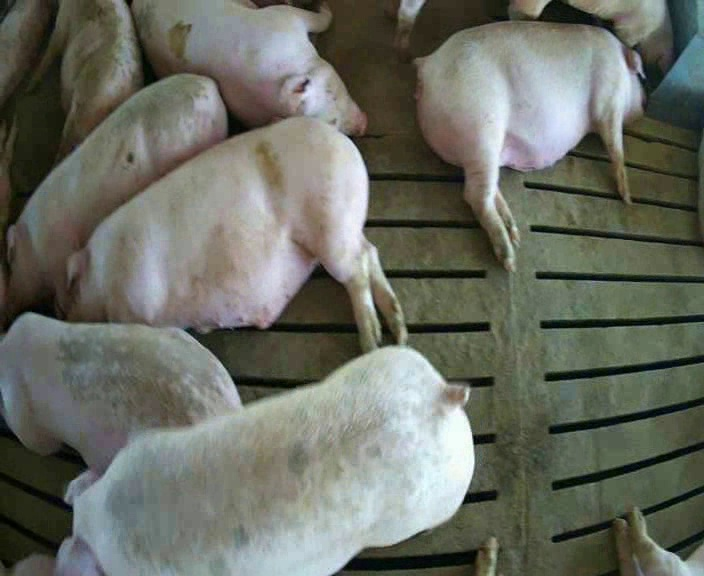pig: (57, 347, 473, 575), (64, 118, 406, 351), (415, 21, 642, 270), (7, 74, 225, 319), (0, 313, 240, 472), (132, 3, 365, 134), (33, 2, 142, 160)
